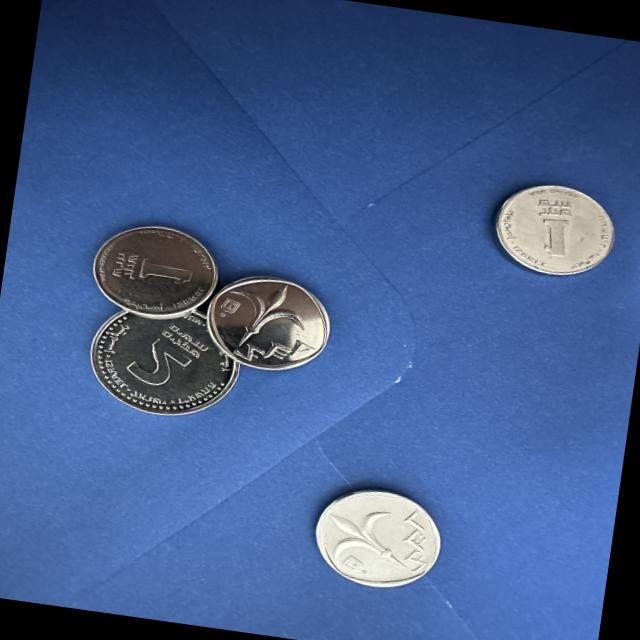1-shekel: (302, 478, 458, 598), (84, 213, 224, 327), (489, 172, 625, 288), (200, 266, 336, 380)
2-shekel: (82, 296, 252, 426)
